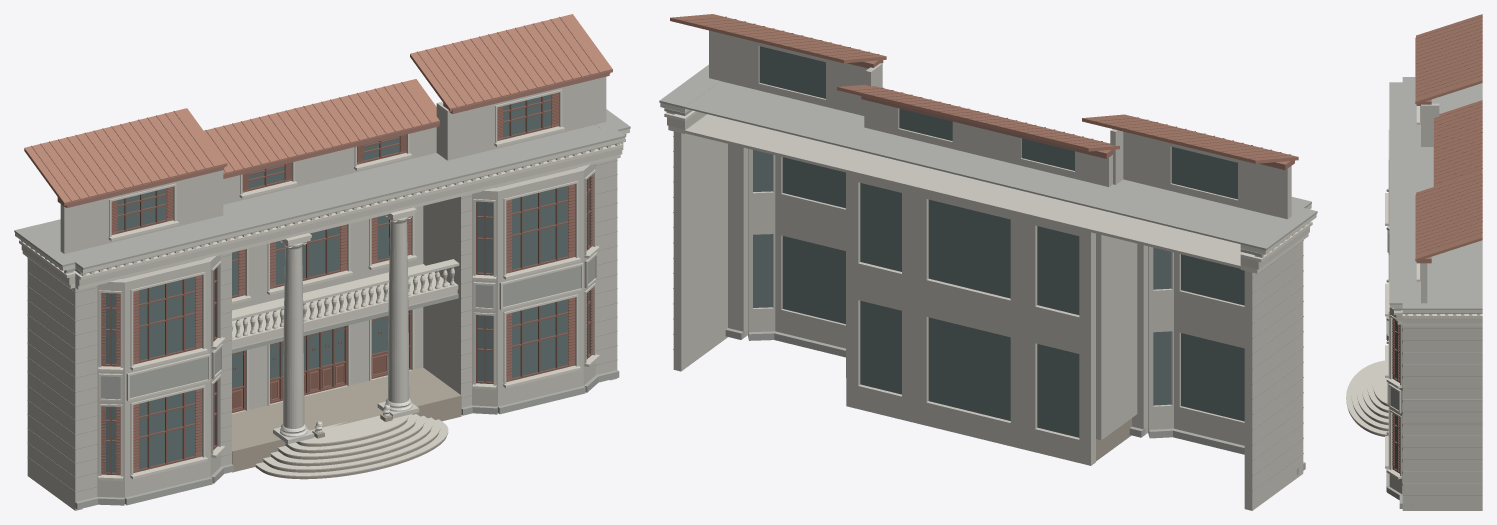
Rendered from jingan-pan-garden-south-portico-web.glb.
The picture shows the model from 3 angles, left to right: view 1: azimuth 30°, elevation 25°; view 2: azimuth 150°, elevation 25°; view 3: azimuth 270°, elevation 25°; orthographic projection. The views are drawn at different scales.
Parts seen in each view (by area): view 1: 潘氏花园住宅南楼柱廊立面; view 2: 潘氏花园住宅南楼柱廊立面; view 3: 潘氏花园住宅南楼柱廊立面.
Part boxes in pixels (x1=…): 潘氏花园住宅南楼柱廊立面: x1=14, y1=14, x2=630, y2=510; 潘氏花园住宅南楼柱廊立面: x1=659, y1=14, x2=1317, y2=510; 潘氏花园住宅南楼柱廊立面: x1=1346, y1=14, x2=1482, y2=510.
Bounding box in the file's own units: 22.96 × 12.72 × 5.73.
